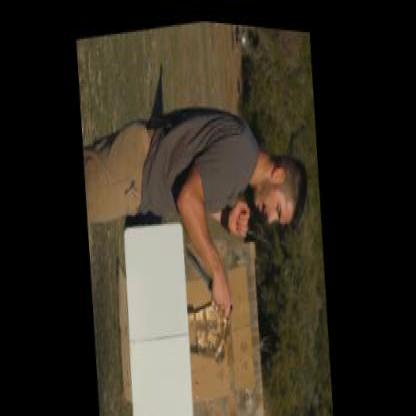knife: (184, 220, 236, 318)
